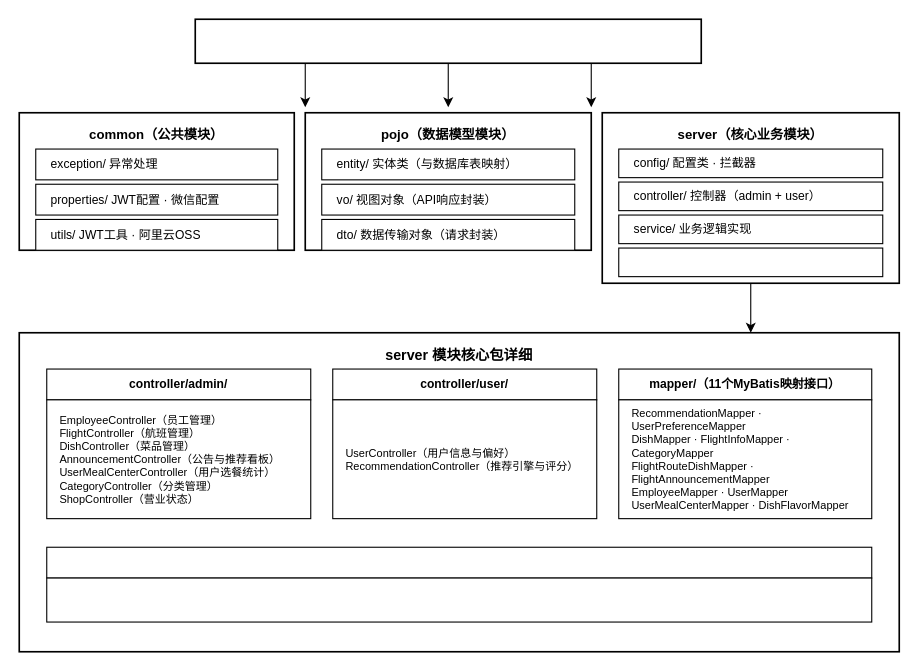
Some shapes in this 920 by 672 pixel diagram are drawn without their labels. Here are the shapes that lost their labels. From the top down, the centre of each, then its label:
point 448,41: aviation_food_recommend-springboot3（Maven多模块项目）
point 750,262: mapper/ 数据访问（11个XML）
point 459,562: task/
point 459,599: MealSelectionTask autoSelectWhenOverdue() 每5分钟执行 pushSelectionReminder() 每10分钟执行
